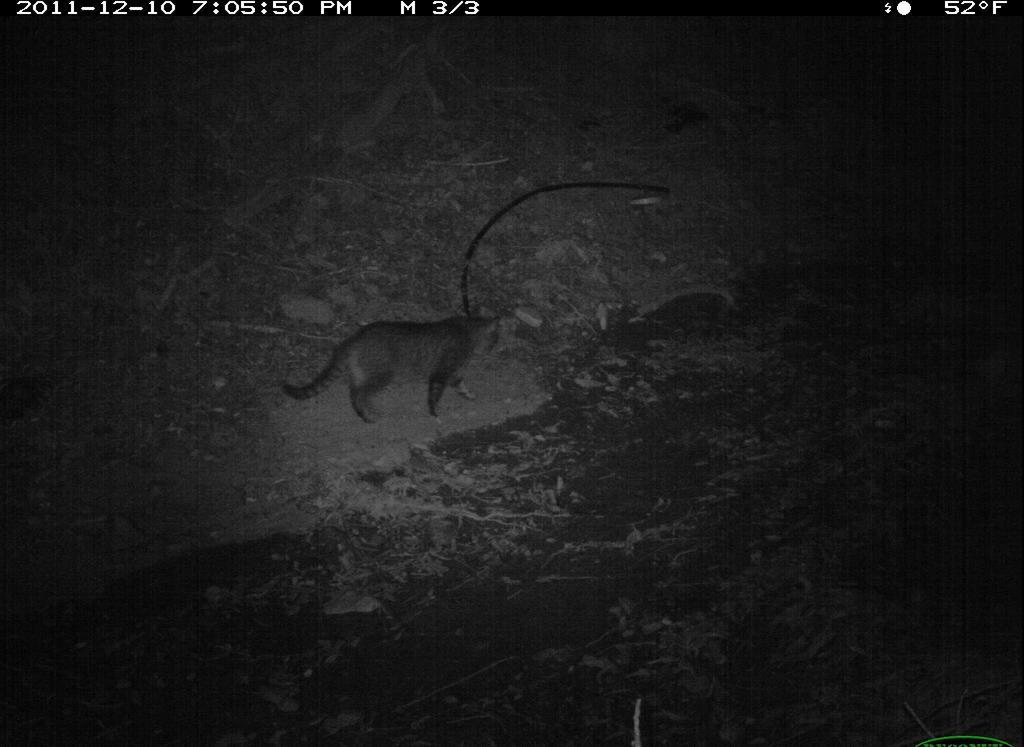cat: (273, 309, 511, 429)
